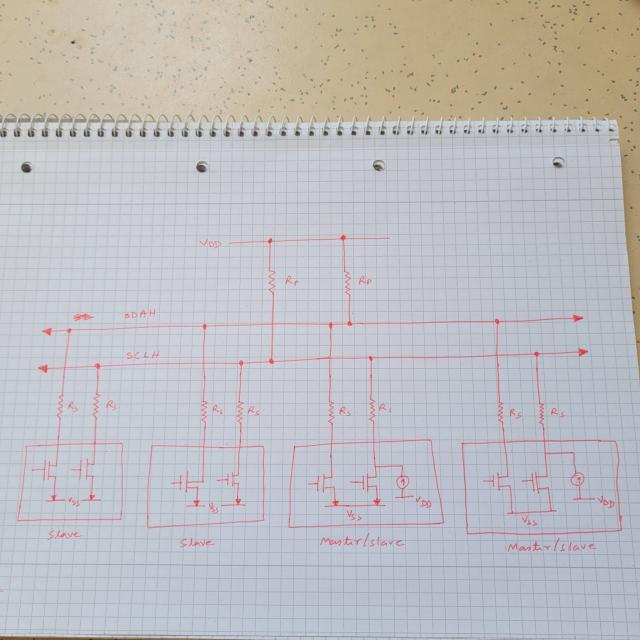crossover: (266, 320, 277, 328), (326, 353, 334, 362), (492, 350, 500, 358), (200, 359, 207, 367), (61, 364, 68, 372)
junction: (338, 233, 348, 242), (492, 316, 501, 326), (265, 236, 275, 245), (64, 326, 74, 335), (93, 362, 102, 371), (345, 319, 354, 328), (236, 358, 245, 367), (86, 493, 96, 501), (267, 356, 275, 365), (326, 320, 335, 328), (48, 494, 57, 502), (200, 322, 208, 330), (532, 350, 540, 358), (366, 354, 374, 362), (570, 449, 577, 456), (541, 450, 548, 457), (371, 462, 378, 469), (386, 234, 392, 241), (548, 507, 554, 513), (508, 509, 514, 514)
resistor: (266, 266, 277, 294), (90, 392, 102, 417), (342, 267, 352, 297), (366, 397, 377, 424), (198, 399, 210, 423), (326, 398, 336, 426), (536, 401, 546, 427), (234, 400, 245, 423), (495, 400, 505, 424), (55, 393, 64, 419)
source: (331, 499, 339, 507), (234, 498, 242, 506), (372, 497, 380, 505), (192, 498, 199, 506)
terminal: (323, 503, 384, 508), (504, 509, 556, 514), (40, 323, 53, 337), (574, 344, 587, 358), (35, 362, 50, 374), (572, 496, 594, 502), (571, 312, 583, 322), (393, 494, 412, 500), (220, 504, 247, 508), (186, 503, 206, 508), (45, 499, 66, 503), (82, 498, 100, 502), (519, 477, 526, 485), (304, 480, 312, 487), (346, 477, 353, 484), (213, 477, 220, 484), (168, 479, 175, 486), (480, 477, 488, 483), (227, 240, 233, 247), (29, 466, 35, 472), (69, 466, 73, 472)
text: (502, 538, 597, 554), (316, 532, 406, 548), (179, 536, 214, 548), (46, 528, 81, 540), (125, 348, 160, 360), (124, 308, 158, 319), (198, 237, 221, 248), (598, 495, 616, 509), (283, 274, 299, 288), (246, 404, 262, 418), (104, 398, 118, 414), (66, 495, 82, 508), (73, 312, 93, 322), (207, 500, 220, 515), (549, 406, 565, 418), (346, 509, 362, 521), (416, 496, 432, 508), (67, 398, 80, 412), (521, 516, 539, 526), (508, 407, 522, 419), (358, 274, 372, 286), (338, 404, 350, 417), (378, 402, 392, 413), (210, 403, 223, 414)
transistor: (76, 456, 100, 483), (529, 468, 553, 494), (178, 469, 203, 493), (313, 470, 339, 493), (490, 470, 515, 492), (40, 456, 61, 482), (358, 472, 382, 493), (224, 469, 243, 488)
